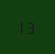one: (19, 19, 26, 33)
three: (27, 19, 34, 34)
